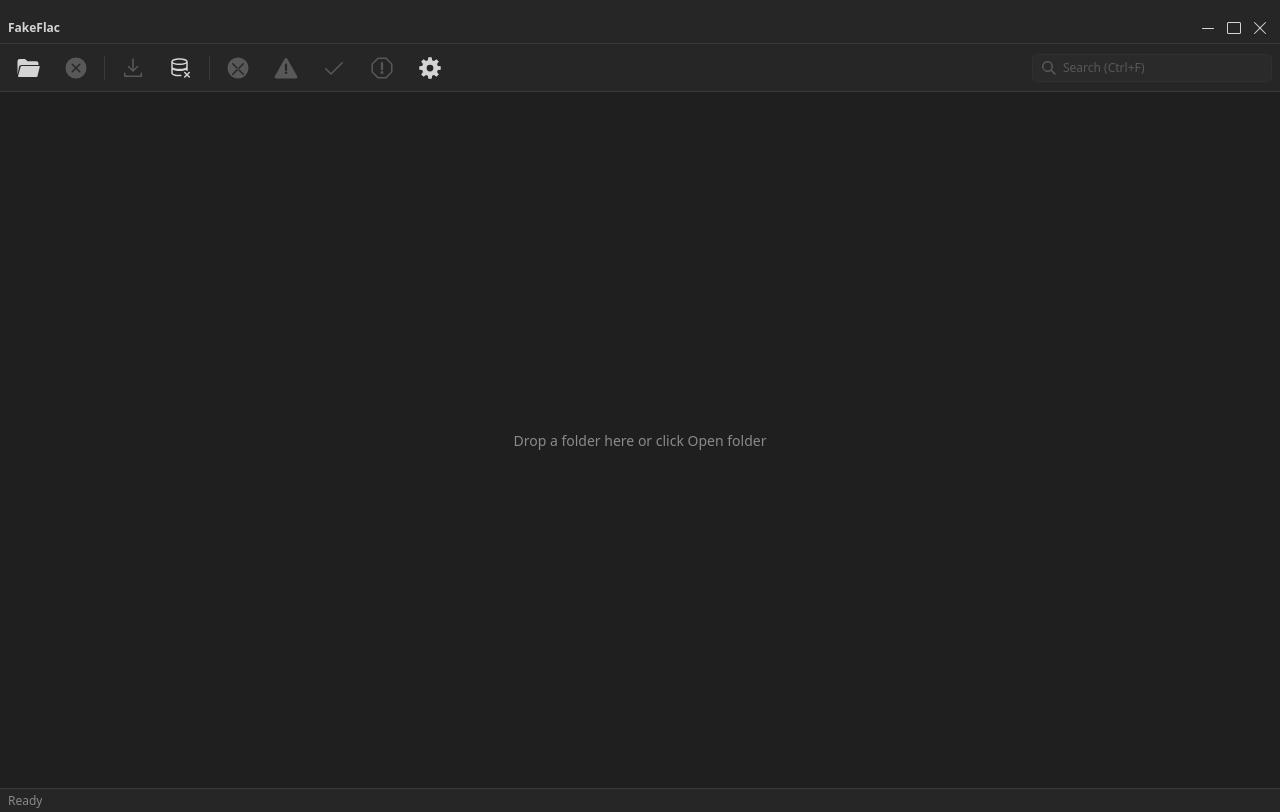
Test: screen state: Finished › shows the summary and re-enables Open
This screenshot has width=1280, height=812.
Expected: the element named "Main toolbar" is shown, [0,44,1279,92]
Click the button named "Open folder" at x=28, y=68, box [8,48,48,88]
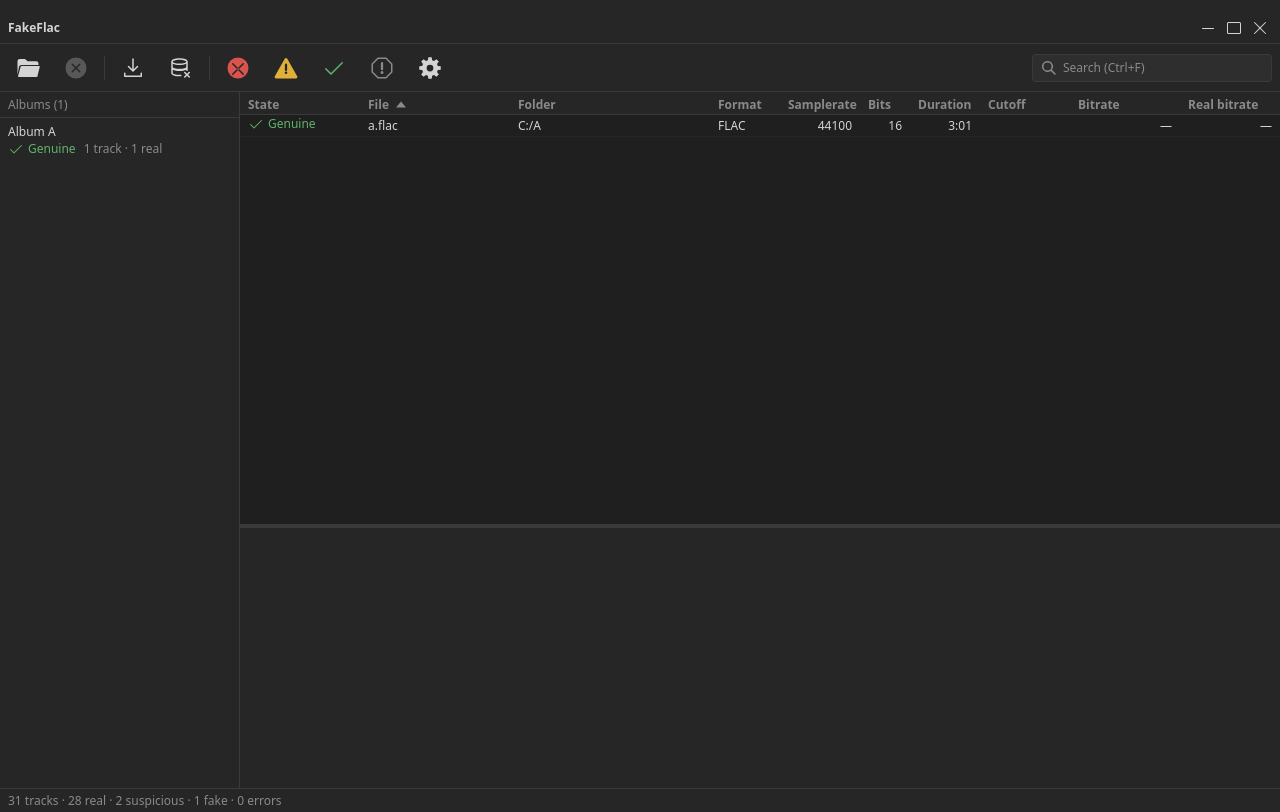
Expected: the button named "Cancel" is disabled, [56,48,96,88]
Expected: the text "31 tracks · 28 real · 2 suspicious · 1 fake · 0 errors" is shown, [8,792,282,809]
Expected: the text "a.flac" is shown, [368,117,398,134]
